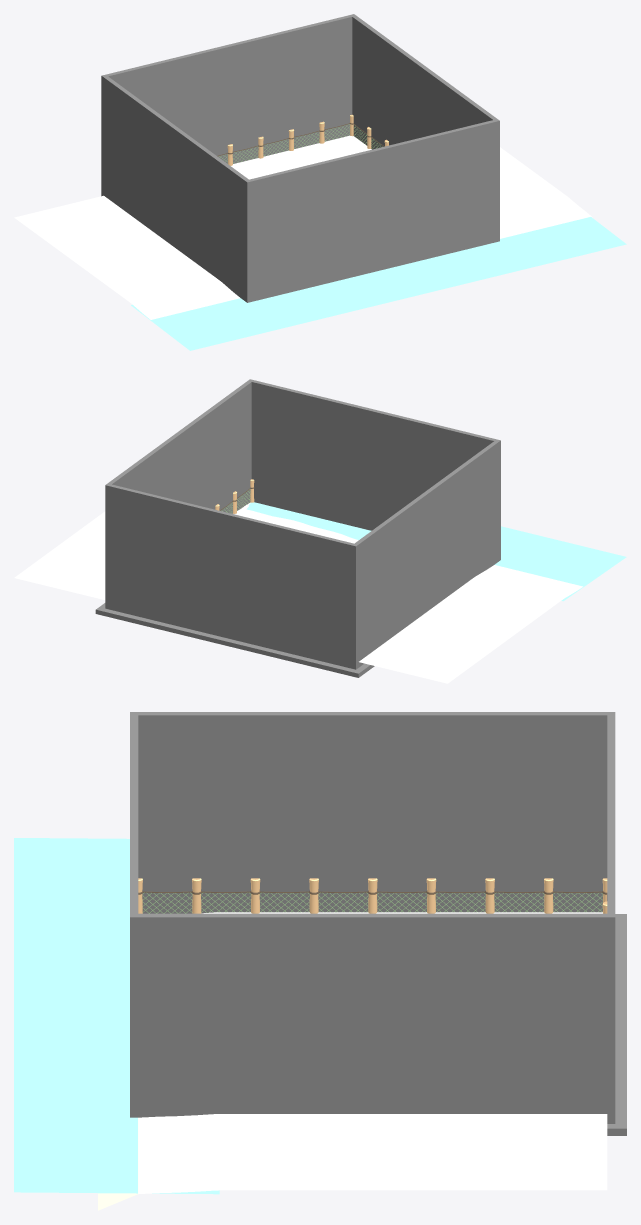
3 views of the same model, one above another, from view 1: azimuth 30°, elevation 25°; view 2: azimuth 150°, elevation 25°; view 3: azimuth 270°, elevation 25° (orthographic). The views are drawn at different scales.
Visible parts, largest first — view 1: boundaryB, boundaryT, Ground, boundaryL, Water, boundaryR, pCylinder10; view 2: boundaryT, boundaryB, boundaryL, Ground, boundaryR, Water, boundaryF; view 3: boundaryR, boundaryL, Water, Ground, boundaryF, pCylinder10, boundaryT, boundaryB.
Boxes of the visible parts, bbox=[...] form: boundaryB: bbox=[247, 120, 499, 302]; boundaryT: bbox=[102, 14, 353, 163]; Ground: bbox=[14, 135, 592, 319]; boundaryL: bbox=[101, 75, 248, 302]; Water: bbox=[131, 217, 626, 350]; boundaryR: bbox=[352, 14, 499, 149]; pCylinder10: bbox=[227, 121, 324, 165]; boundaryT: bbox=[105, 484, 355, 669]; boundaryB: bbox=[250, 379, 499, 530]; boundaryL: bbox=[354, 440, 500, 669]; Ground: bbox=[14, 502, 582, 683]; boundaryR: bbox=[106, 379, 251, 513]; Water: bbox=[246, 502, 626, 601]; boundaryF: bbox=[95, 603, 374, 677]; boundaryR: bbox=[130, 913, 615, 1123]; boundaryL: bbox=[130, 712, 614, 913]; Water: bbox=[14, 838, 219, 1194]; Ground: bbox=[98, 912, 607, 1210]; boundaryF: bbox=[607, 914, 626, 1135]; pCylinder10: bbox=[138, 878, 607, 913]; boundaryT: bbox=[607, 712, 615, 916]; boundaryB: bbox=[130, 712, 138, 916].
Bounding box in the file's own units: 43.13 × 12.26 × 31.35.
